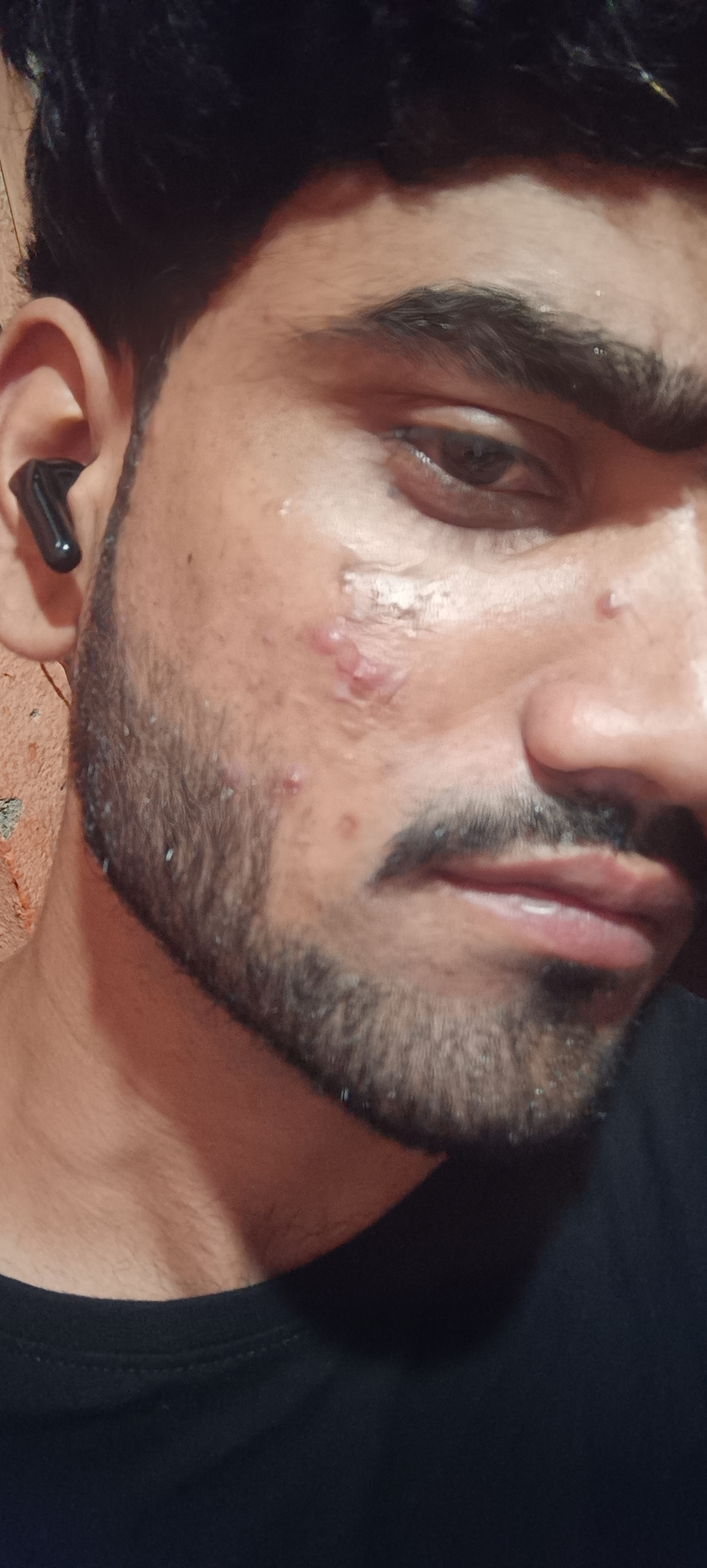closed_comedone: (272, 487, 306, 525), (341, 568, 363, 599)
nodule: (331, 662, 406, 701), (295, 615, 365, 655), (591, 581, 634, 634)
papule: (276, 764, 308, 800)
